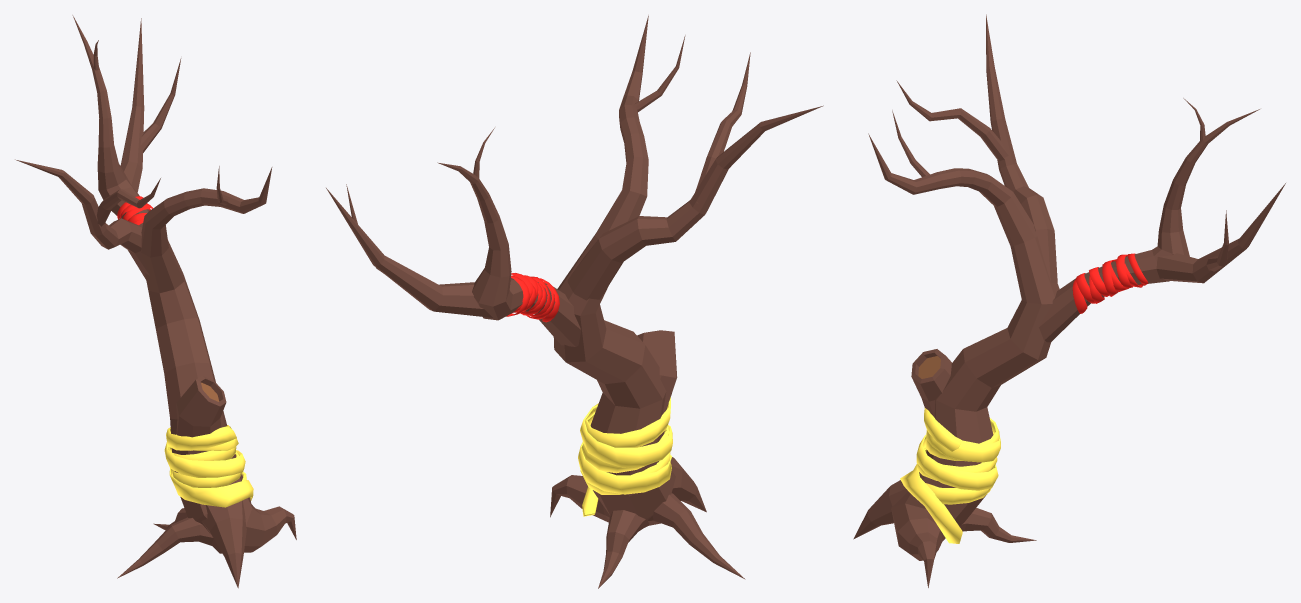
File: Tree.ShortPull.fbx
3 renders of one model, left to right at view 1: azimuth 30°, elevation 25°; view 2: azimuth 150°, elevation 25°; view 3: azimuth 270°, elevation 25°, orthographic. The views are drawn at different scales.
Parts seen in each view (by area): view 1: Tree, Pull, Swing; view 2: Tree, Pull, Swing; view 3: Tree, Pull, Swing.
Boxes of the visible parts, x1,y1,x2,y2 form: Tree: (15, 15, 296, 588); Pull: (164, 425, 253, 507); Swing: (117, 196, 152, 225); Tree: (326, 15, 823, 588); Pull: (578, 397, 672, 516); Swing: (506, 273, 559, 322); Tree: (853, 14, 1285, 587); Pull: (900, 408, 1000, 543); Swing: (1072, 253, 1148, 313).
Bounding box in the file's own units: 1798 × 2648 × 2283.
